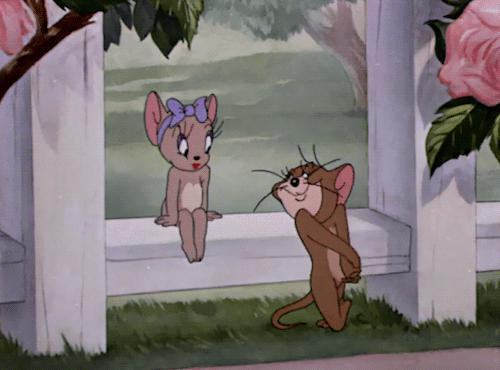jerry: (252, 144, 366, 333)
